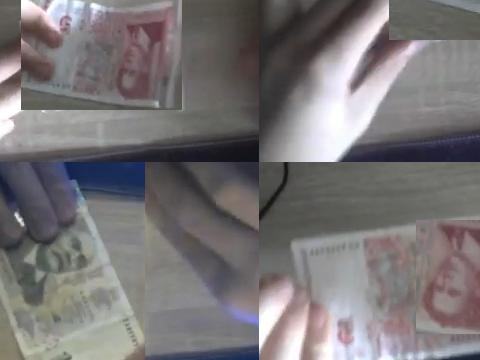5leva: (290, 210, 480, 360), (21, 0, 182, 110), (416, 220, 480, 334)
